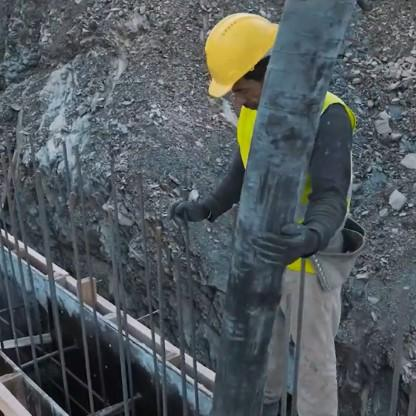helmet: (192, 9, 289, 133)
